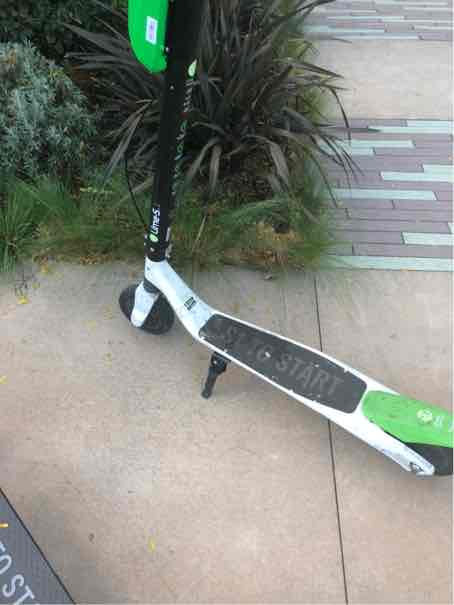scooter: (122, 14, 454, 511)
